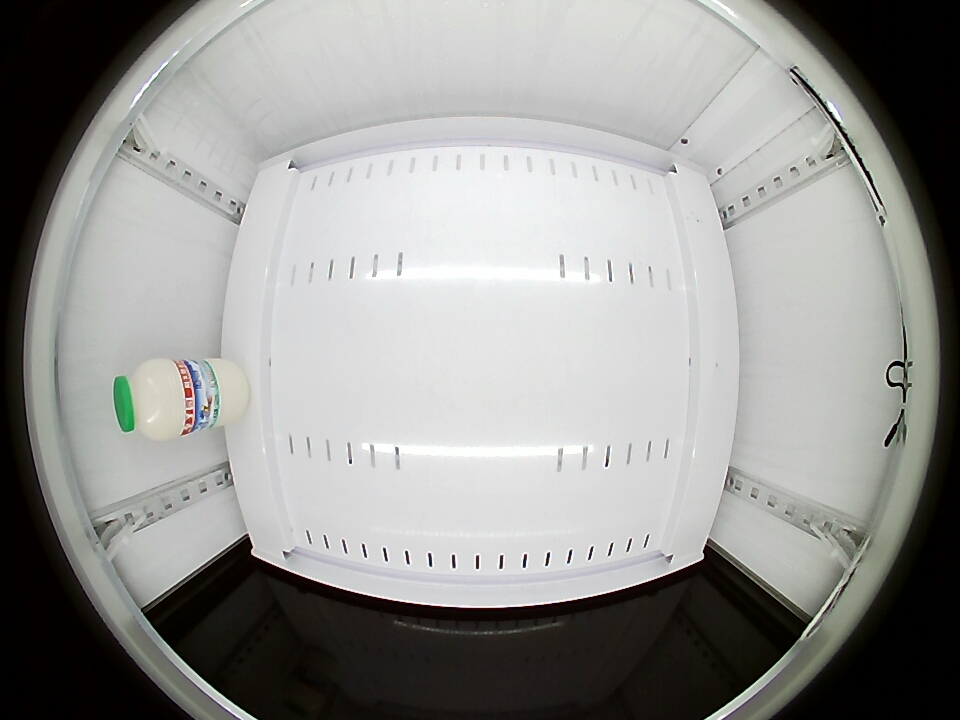liziyuan: (113, 357, 195, 440)
